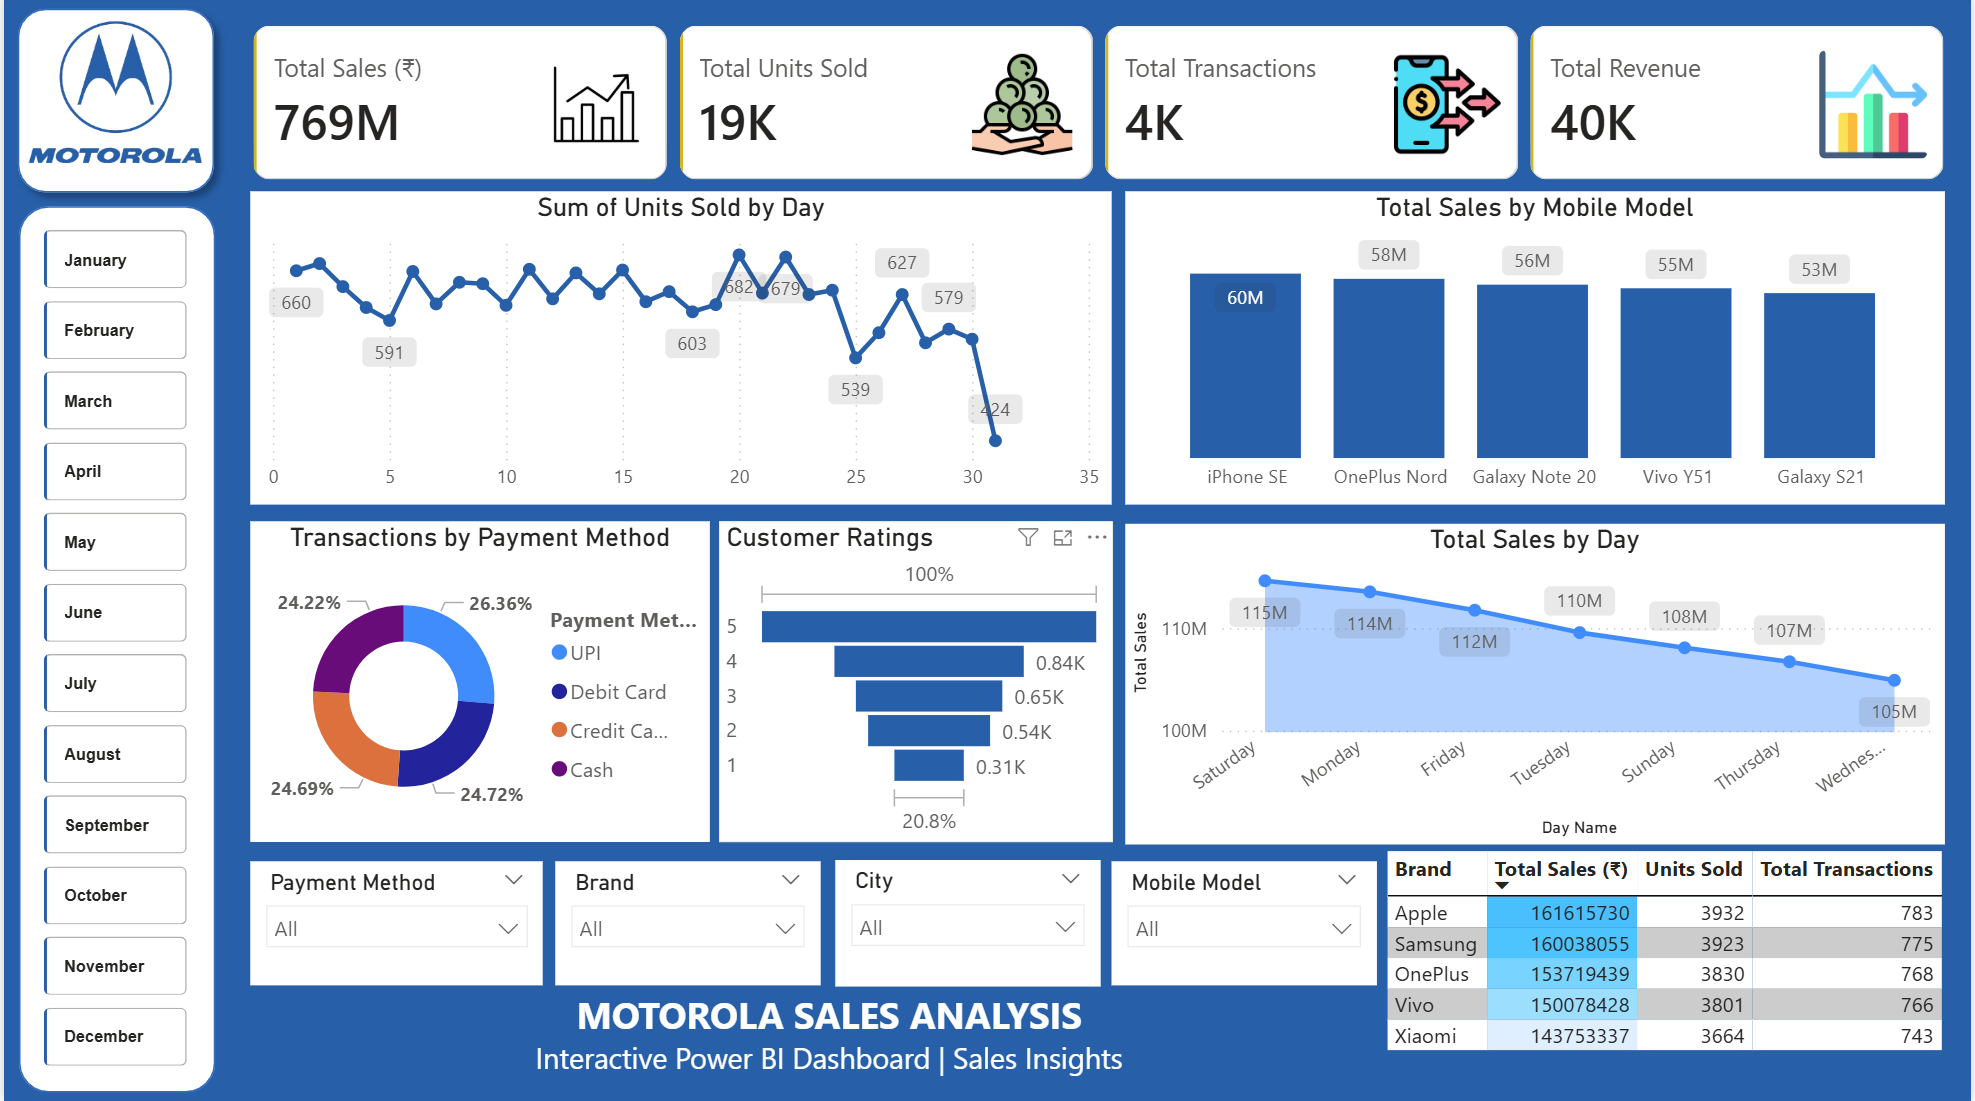

This screenshot's page, from the dashboard's own definition file:
{"tool":"powerbi","page":{"name":"Page 1","canvas":[1280,720],"ordinal":0},"visuals":[{"type":"shape","box":[0,0,145.7,137.5],"z":0,"group":"g1"},{"type":"shape","box":[9.8,137.5,127.8,576.9],"z":0},{"type":"group","id":"g1","title":"Group 1","box":[0,0,145.7,703.9],"z":1000},{"type":"image","box":[7.3,7.3,130.2,112.3],"z":1000,"group":"g1"},{"type":"cardVisual","fields":{"Data":["Sales_Data_Mobil.Total Sales","Sales_Data_Mobil.Total Quantity","Sales_Data_Mobil.Transactions","Sales_Data_Mobil.Average"]},"box":[145.7,3.3,1134.4,134.3],"z":2000},{"type":"advancedSlicerVisual","fields":{"Values":["Sales_Data_Mobil.Date.Variation.Date Hierarchy.Month"]},"box":[21.2,148.1,103.3,555.8],"z":2000,"group":"g1"},{"type":"lineChart","fields":{"Y":["Sum(Sales_Data_Mobil.Units Sold)"],"Category":["Sales_Data_Mobil.Date.Variation.Date Hierarchy.Month","Sales_Data_Mobil.Date.Variation.Date Hierarchy.Day"]},"box":[160.5,127.9,561,203.9],"z":3000},{"type":"clusteredColumnChart","fields":{"Category":["Sales_Data_Mobil.Mobile Model"],"Y":["Sales_Data_Mobil.Total Sales"]},"box":[729.9,127.9,533.2,203.9],"z":4000},{"type":"donutChart","fields":{"Category":["Sales_Data_Mobil.Payment Method"],"Y":["Sales_Data_Mobil.Transactions"]},"box":[160.5,342.6,299.2,208.7],"z":5000},{"type":"funnel","title":"Customer Ratings","fields":{"Category":["Sales_Data_Mobil.Customer Ratings"],"Y":["CountNonNull(Sales_Data_Mobil.Customer Ratings)"]},"box":[465.7,342.6,255.8,208.7],"z":6000},{"type":"areaChart","title":"Total Sales by Day ","fields":{"Category":["Sales_Data_Mobil.Day Name"],"Y":["Sales_Data_Mobil.Total Sales"]},"box":[729.9,343.8,533.2,208.7],"z":7000},{"type":"tableEx","fields":{"Values":["Sales_Data_Mobil.Brand","Sales_Data_Mobil.Total Sales","Sales_Data_Mobil.Total Quantity","Sales_Data_Mobil.Transactions"]},"box":[894,552.5,377.6,168],"z":8000},{"type":"slicer","fields":{"Values":["Sales_Data_Mobil.Mobile Model"]},"box":[720.9,564.2,172.5,80.8],"z":9000,"group":"g2"},{"type":"textbox","box":[234,624.9,605.6,95.3],"z":9000},{"type":"group","id":"g2","title":"Group 2","box":[160.5,563,733,82],"z":10000},{"type":"slicer","fields":{"Values":["Sales_Data_Mobil.City"]},"box":[541.2,563,172.5,82],"z":10000,"group":"g2"},{"type":"slicer","fields":{"Values":["Sales_Data_Mobil.Payment Method"]},"box":[160.5,563.6,190.6,80.8],"z":11000,"group":"g2"},{"type":"slicer","fields":{"Values":["Sales_Data_Mobil.Brand"]},"box":[359,564.2,172.5,80.8],"z":12000,"group":"g2"}]}

Visuals, with their boxes in screenshot pixels (x1, y1, x2, y2), scaled from the page's 1280x720 canvas onto the 1975x1101 screenshot:
shape: bbox=(0, 0, 225, 210)
shape: bbox=(15, 210, 212, 1092)
"Group 1" group: bbox=(0, 0, 225, 1076)
image: bbox=(11, 11, 212, 183)
cardVisual - Sales_Data_Mobil.Total Sales x Sales_Data_Mobil.Total Quantity: bbox=(225, 5, 1974, 210)
advancedSlicerVisual - Sales_Data_Mobil.Date.Variation.Date Hierarchy.Month: bbox=(33, 226, 192, 1076)
lineChart - Sum(Sales_Data_Mobil.Units Sold) x Sales_Data_Mobil.Date.Variation.Date Hierarchy.Month: bbox=(248, 196, 1113, 507)
clusteredColumnChart - Sales_Data_Mobil.Mobile Model x Sales_Data_Mobil.Total Sales: bbox=(1126, 196, 1949, 507)
donutChart - Sales_Data_Mobil.Payment Method x Sales_Data_Mobil.Transactions: bbox=(248, 524, 709, 843)
"Customer Ratings" funnel: bbox=(719, 524, 1113, 843)
"Total Sales by Day " areaChart: bbox=(1126, 526, 1949, 845)
tableEx - Sales_Data_Mobil.Brand x Sales_Data_Mobil.Total Sales: bbox=(1379, 845, 1962, 1100)
slicer - Sales_Data_Mobil.Mobile Model: bbox=(1112, 863, 1378, 986)
textbox: bbox=(361, 956, 1295, 1100)
"Group 2" group: bbox=(248, 861, 1379, 986)
slicer - Sales_Data_Mobil.City: bbox=(835, 861, 1101, 986)
slicer - Sales_Data_Mobil.Payment Method: bbox=(248, 862, 542, 985)
slicer - Sales_Data_Mobil.Brand: bbox=(554, 863, 820, 986)
